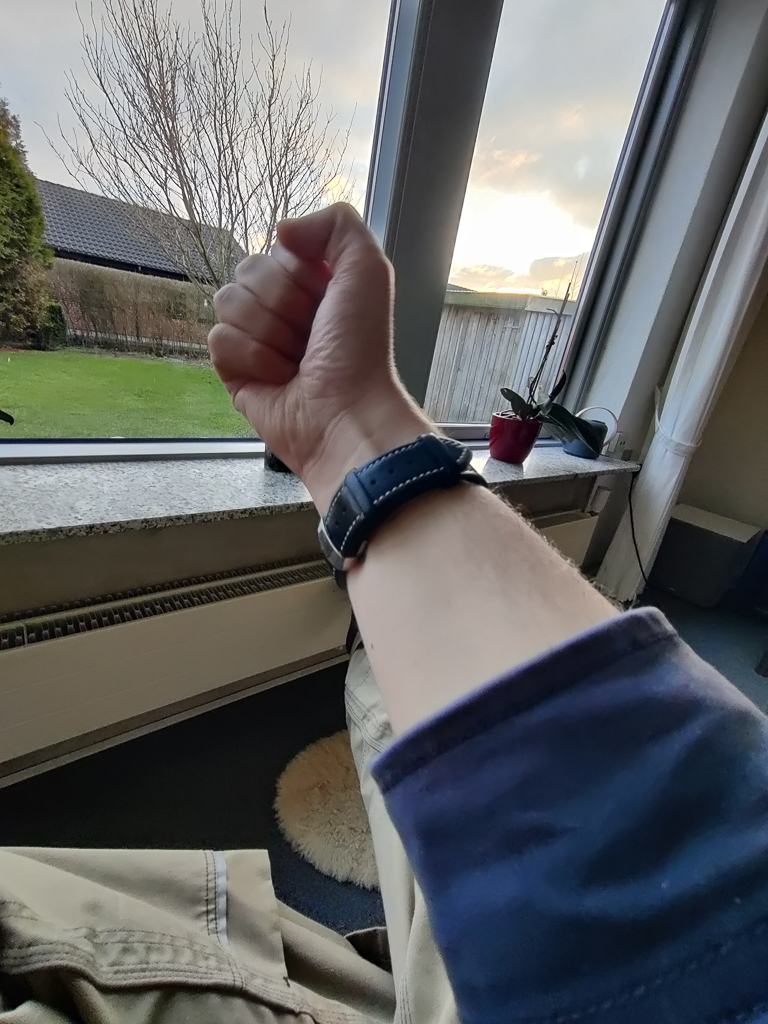Humanoid: (0, 189, 768, 1024)
